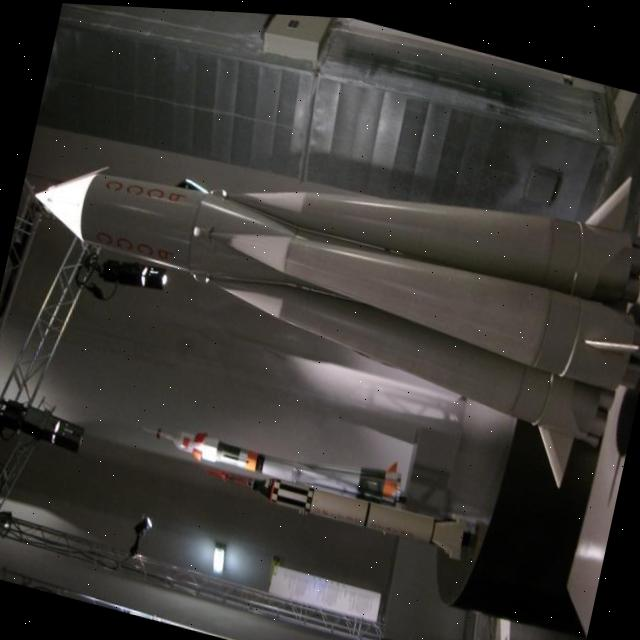missile: (11, 77, 640, 437)
